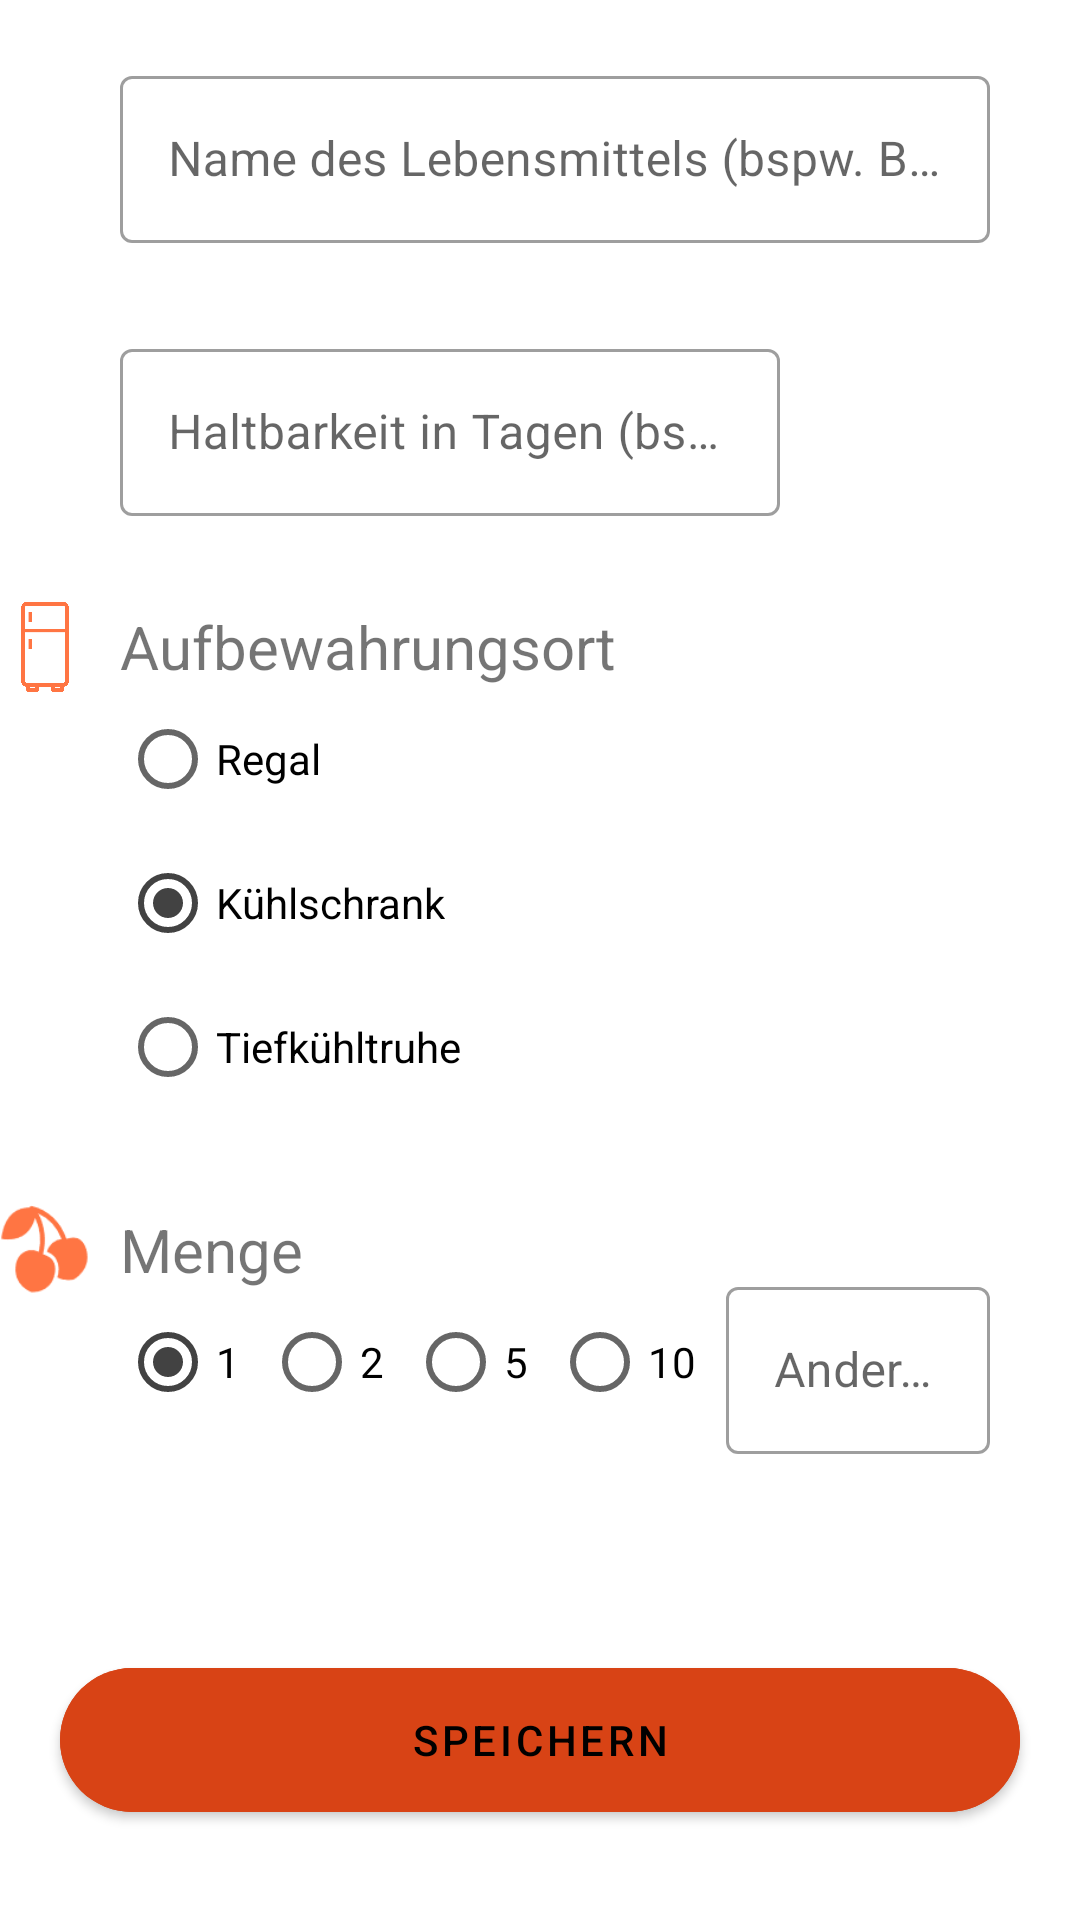

Screen size 1080x1920. Icon name, then its box in pixels as (x1, y1, x2, y2):
fridge: (21, 602, 69, 692)
